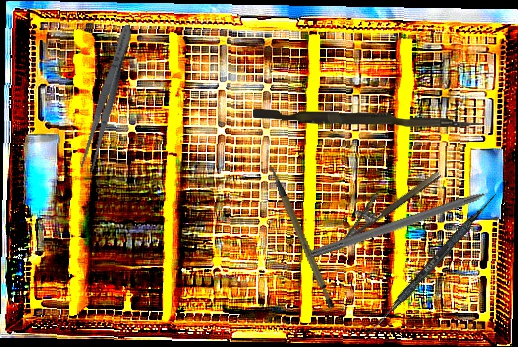Dressing Forceps: (77, 22, 138, 172)
Hook Surgical: (309, 181, 513, 261)
Needle Holder: (322, 157, 443, 251)
Pusher: (252, 109, 483, 128)
Scalpel Handle: (269, 158, 337, 314)
Spatula Surgical: (365, 189, 499, 340)
